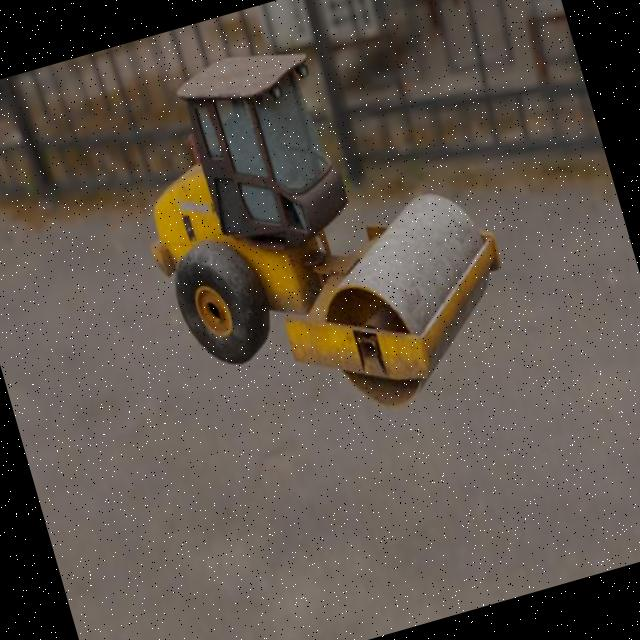Roller: (104, 0, 532, 461)
